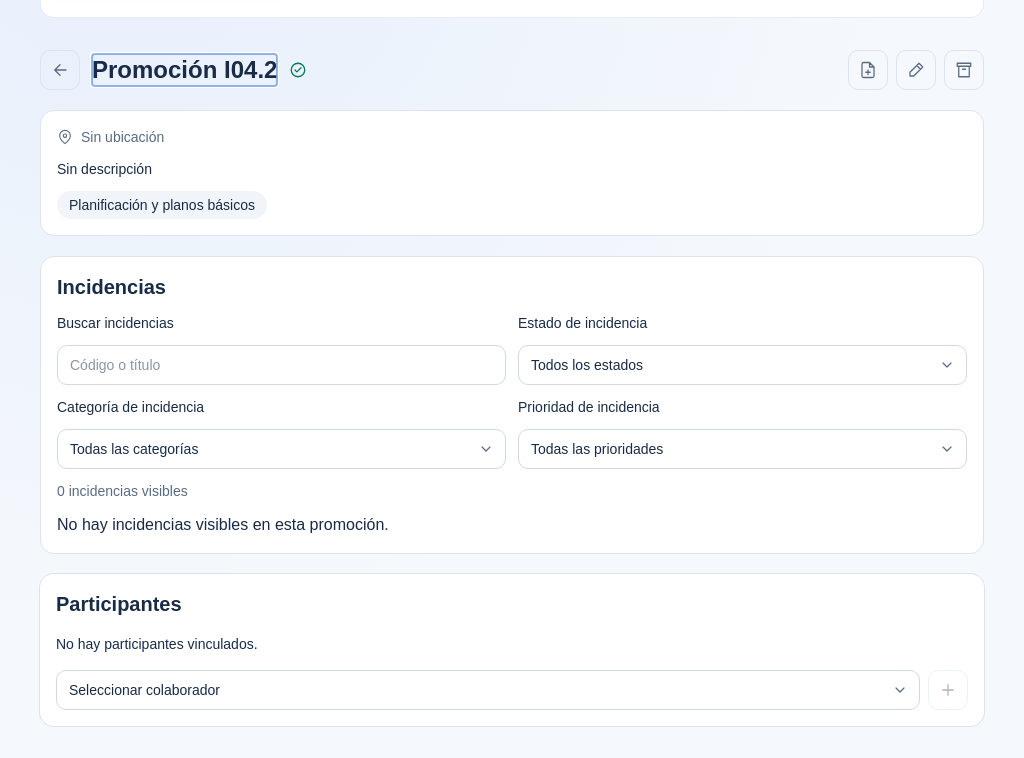
Test: adds and removes through CSRF, confirms removal and refreshes durable results
(page scrolled)
Select "Ana Prueba · ana@example.test" in the dropdown named "Colaborador" at (488, 690), box [56,670,920,710]
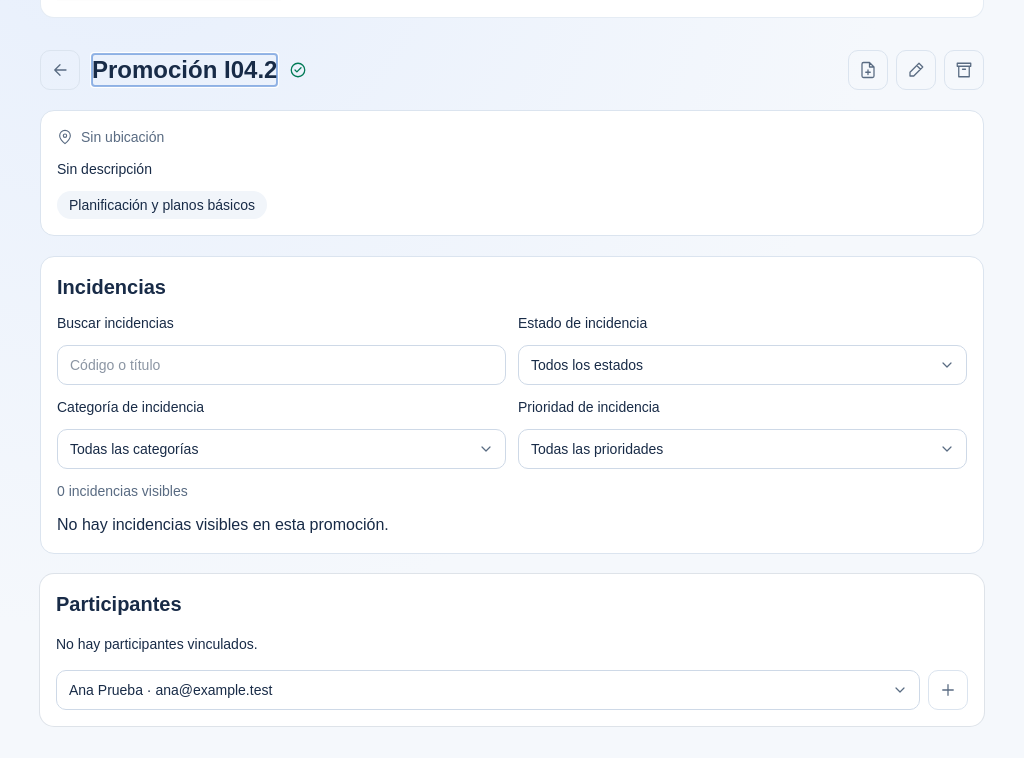
Click the button named "Añadir participante" at (948, 690), box [928,670,968,710]
(page scrolled)
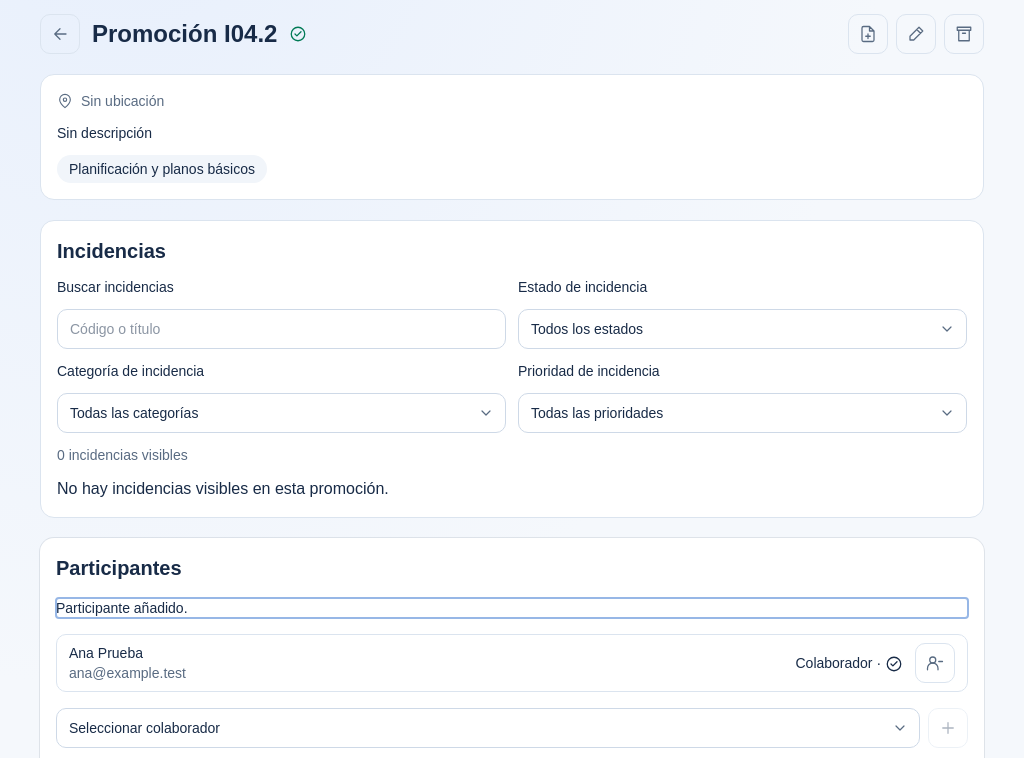
Check: the text "Participante añadido." is shown, box [56,600,188,616]
Click the button named "Retirar Ana Prueba" at (935, 663), box [915,643,955,683]
(page scrolled)
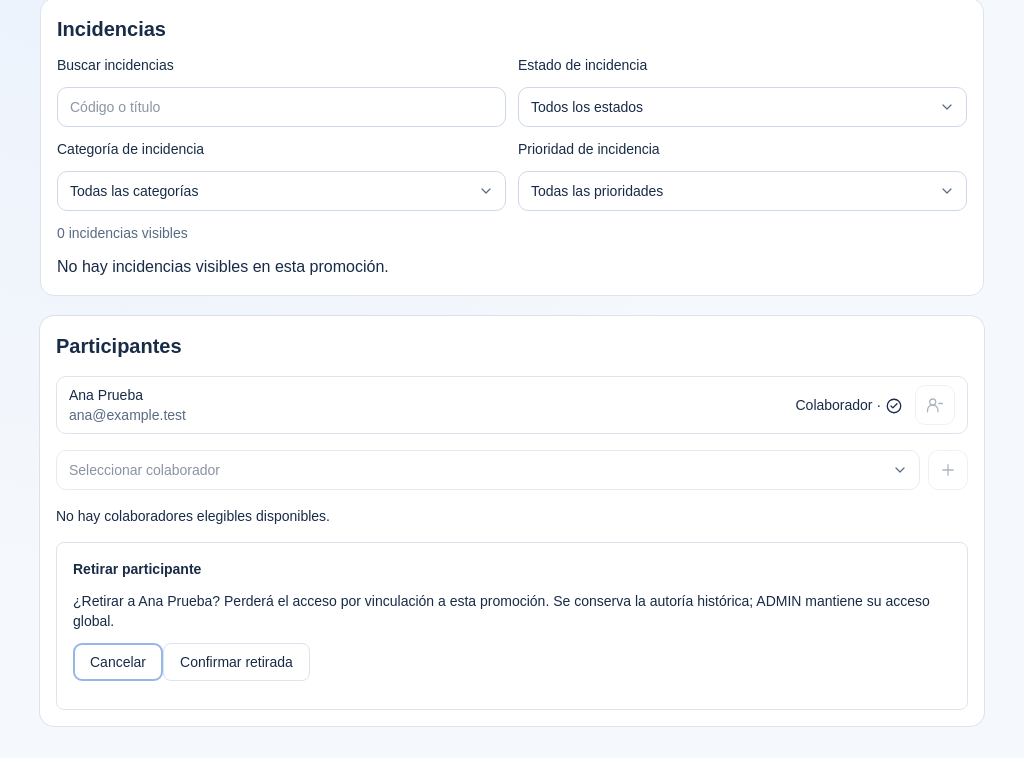
Check: the dialog "Retirar participante" is shown, box [56,542,968,710]
Click the button "Confirmar retirada" at (236, 662), box [163,643,310,681]
(page scrolled)
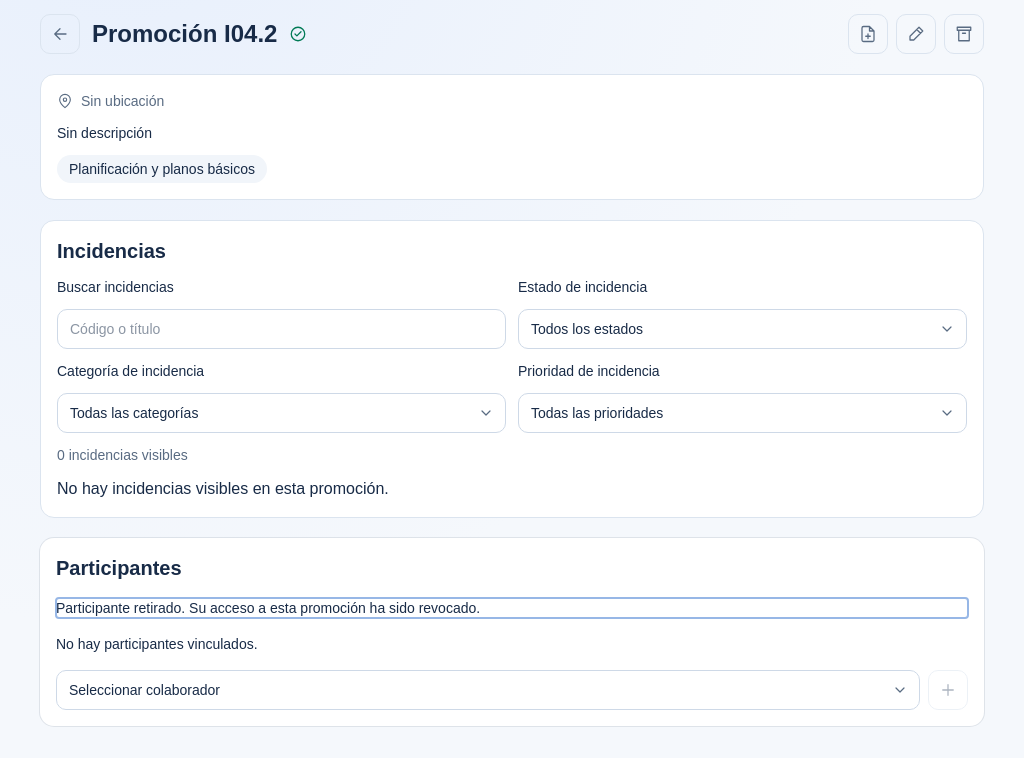
Check: the text "Participante retirado. Su acceso a esta promoción ha sido revocado." is shown, box [56,600,480,616]
Check: the text "No hay participantes vinculados." is shown, box [56,636,258,652]
